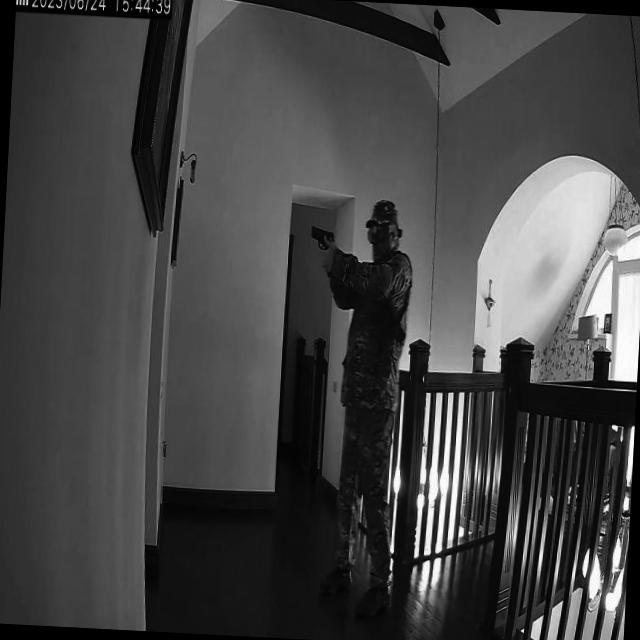gun: (310, 221, 338, 255)
person with a gun: (319, 198, 414, 621)
